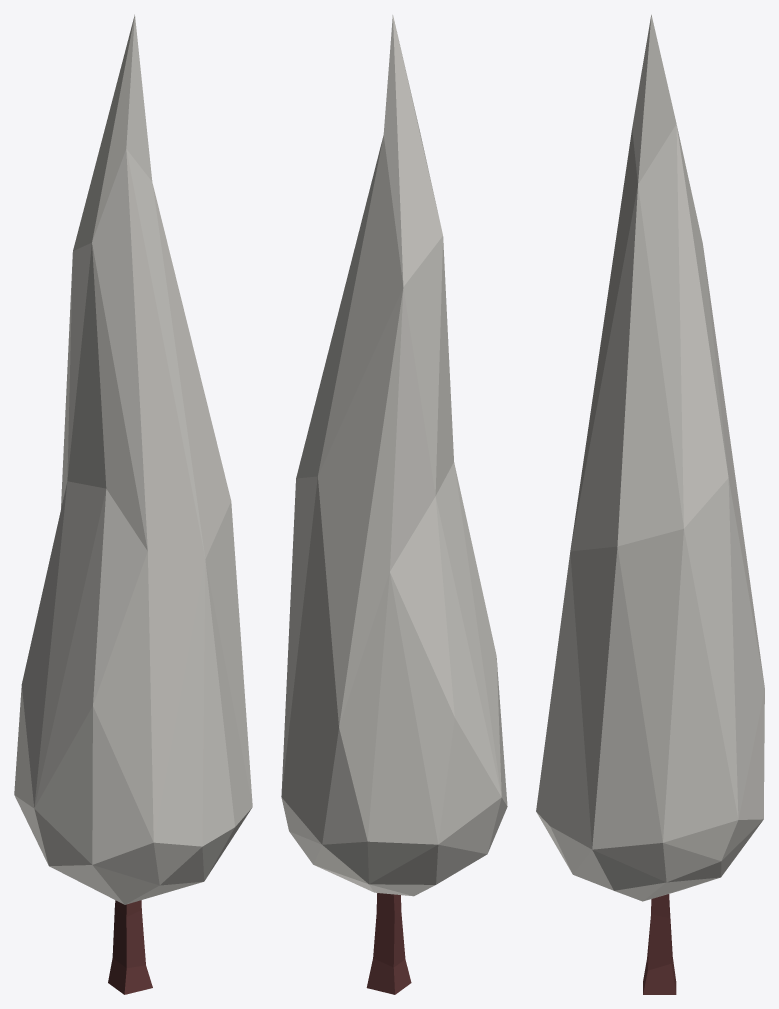
The model's file is Cypress_L_flat.glb.
3 views of the same model, side by side, from view 1: azimuth 30°, elevation 25°; view 2: azimuth 150°, elevation 25°; view 3: azimuth 270°, elevation 25° (orthographic).
Parts seen in each view (by area): view 1: Cypress big f; view 2: Cypress big f; view 3: Cypress big f.
Boxes of the visible parts, <box> form: Cypress big f: <box>14,14,252,994</box>; Cypress big f: <box>281,15,507,994</box>; Cypress big f: <box>536,14,764,994</box>.
Bounding box in the file's own units: 4.01 × 18.16 × 3.87.
